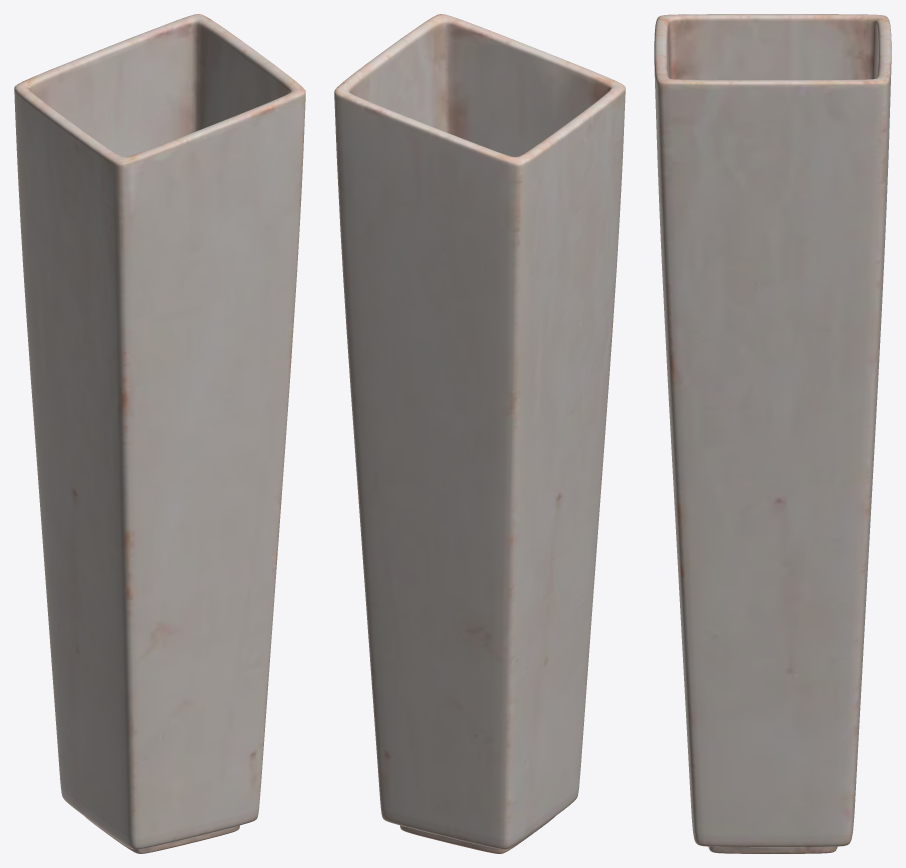
Rendered from ceramic-vase-slim-low.glb.
3 renders of one model, left to right at view 1: azimuth 30°, elevation 25°; view 2: azimuth 150°, elevation 25°; view 3: azimuth 270°, elevation 25°, orthographic. The views are drawn at different scales.
Visible parts, largest first — view 1: ceramic_vase_03; view 2: ceramic_vase_03; view 3: ceramic_vase_03.
Boxes of the visible parts, left/top/right/bottom form: ceramic_vase_03: left=14, top=14, right=305, bottom=853; ceramic_vase_03: left=334, top=14, right=625, bottom=853; ceramic_vase_03: left=654, top=14, right=891, bottom=853.
Size of the model in its own units: 0.1122 by 0.4144 by 0.1122.
Materials: 1 (1 with a texture image).
